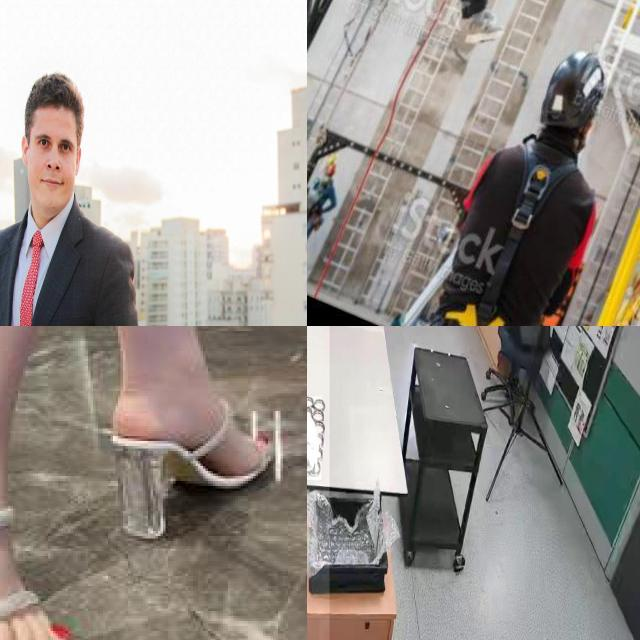Harness: (477, 143, 578, 326)
No_Ear-Protection: (19, 128, 30, 174)
No_Glasses: (29, 126, 76, 162)
Sandals: (108, 328, 278, 546), (0, 356, 80, 640)
hand_glove: (307, 396, 322, 447), (307, 431, 322, 481)
